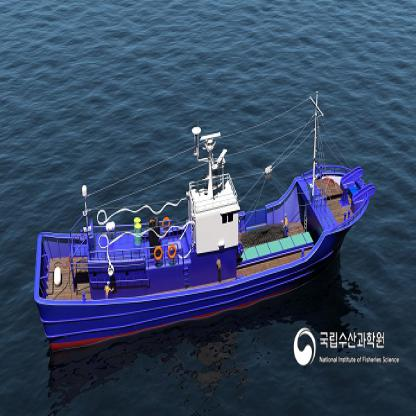fish-b: (26, 85, 378, 358)
